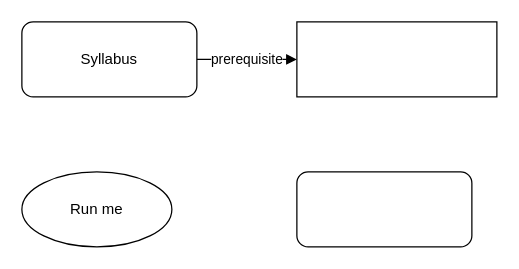
Image size: 519x269. Some labels were removed from this diagram. The centre of each missing label's shape, as x and y in pixels:
"Page 2" goes at pixel 384 209.
"Physics (4 credits)" goes at pixel 396 59.
